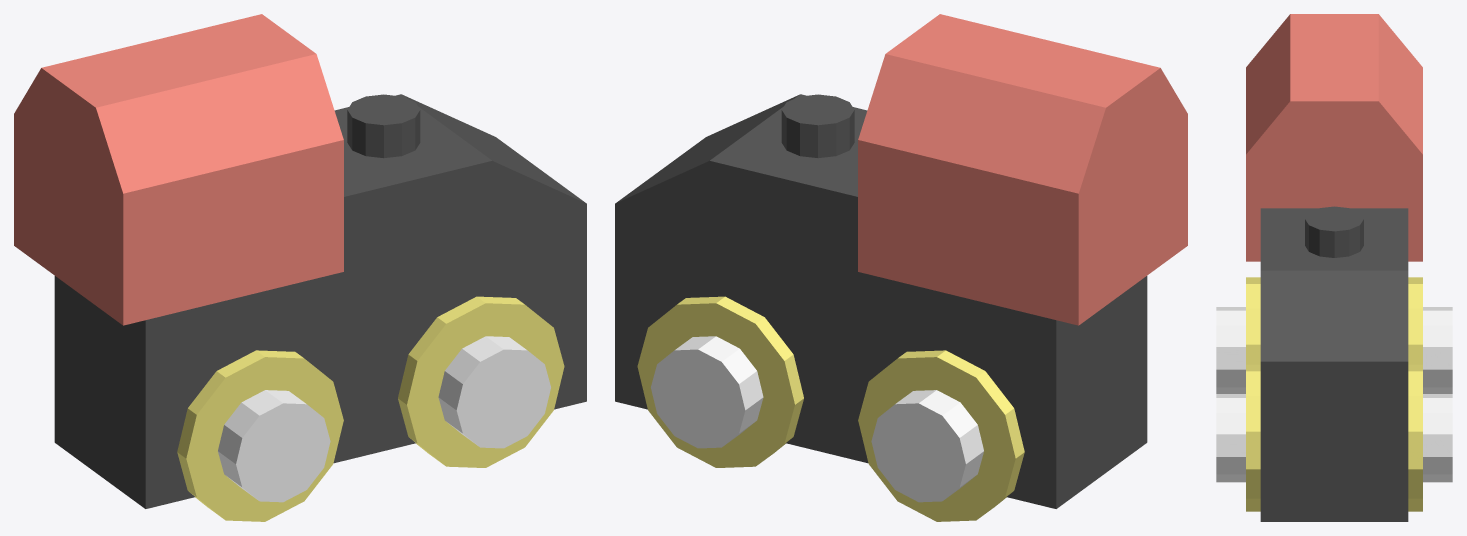
Rendered from Loco.fbx.
The picture shows the model from 3 angles, left to right: view 1: azimuth 30°, elevation 25°; view 2: azimuth 150°, elevation 25°; view 3: azimuth 270°, elevation 25°; orthographic projection. The views are drawn at different scales.
Parts seen in each view (by area): view 1: Loco; view 2: Loco; view 3: Loco.
Boxes of the visible parts, x1,y1,x2,y2 form: Loco: (14, 14, 586, 521); Loco: (615, 14, 1187, 521); Loco: (1216, 14, 1452, 521).
Bounding box in the file's own units: 15 × 13 × 8.
